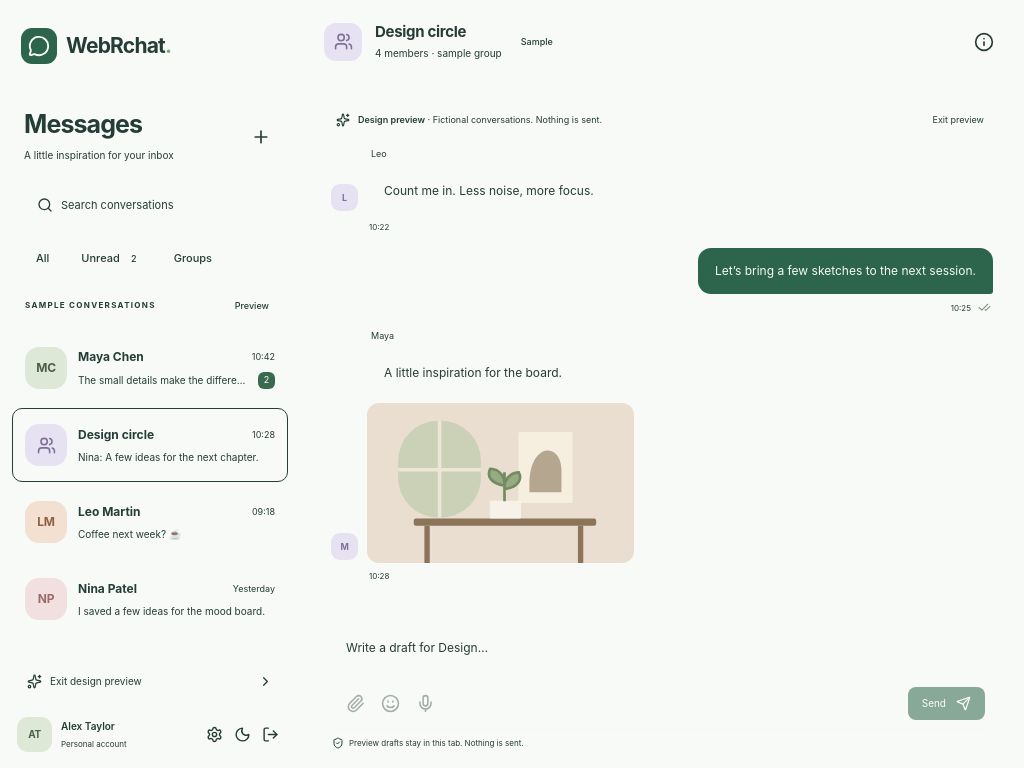
chat workspace › displays group details and closes the image modal
(page scrolled)
Click the button named "Conversation details": (984, 42) [968,26,1000,58]
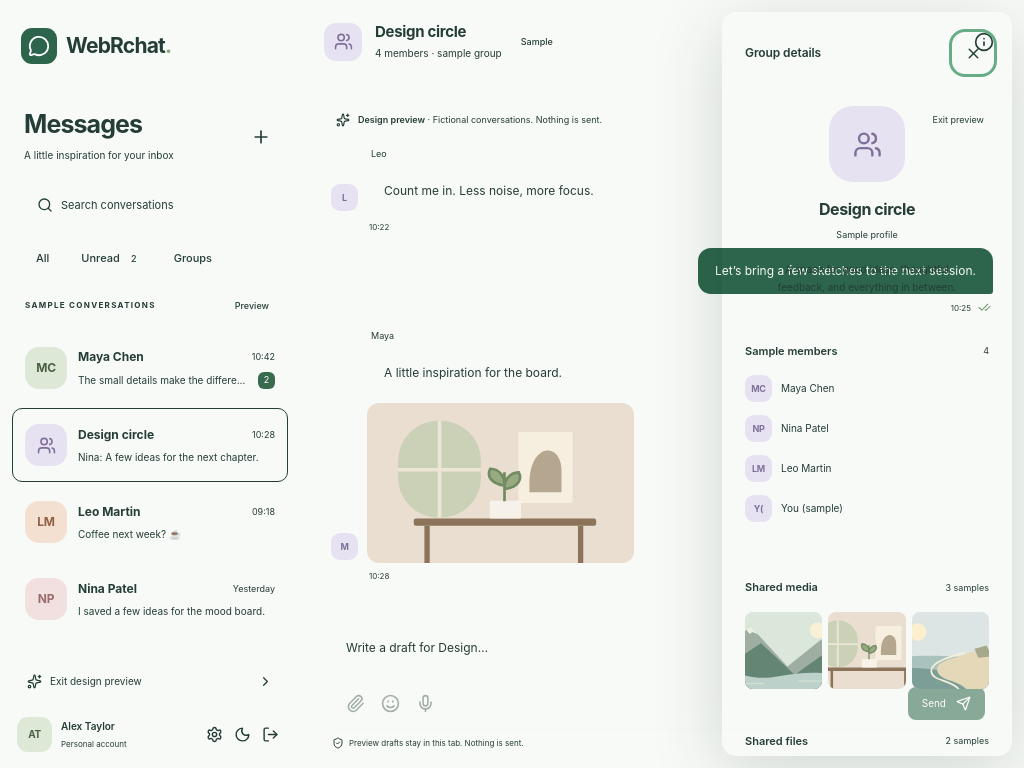
Now the heading "Group details" is shown, box [745,44,821,62]
Now the text "Nina Patel" below "Sample members" is shown, box [781,422,829,434]
Click the button named "View sample: Mountain lake illustration": (784, 650) [745,612,822,689]
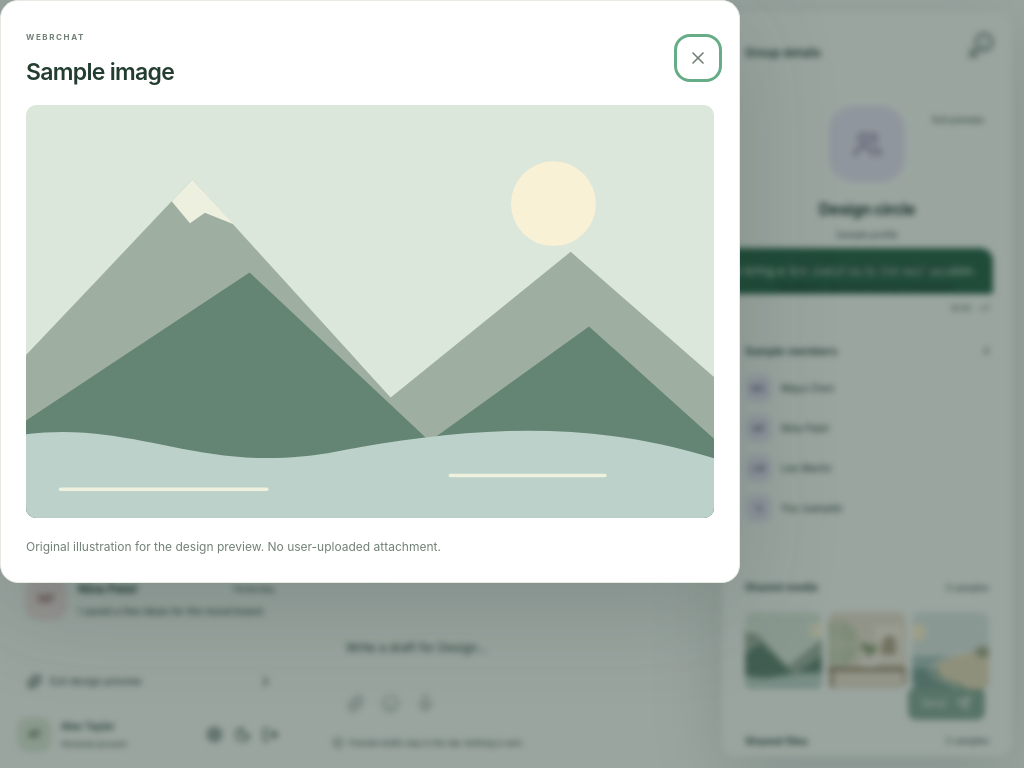
Now the dialog "Sample image" is shown, box [0,0,740,583]
Click the button named "Close dialog": (698, 58) [682,42,714,74]
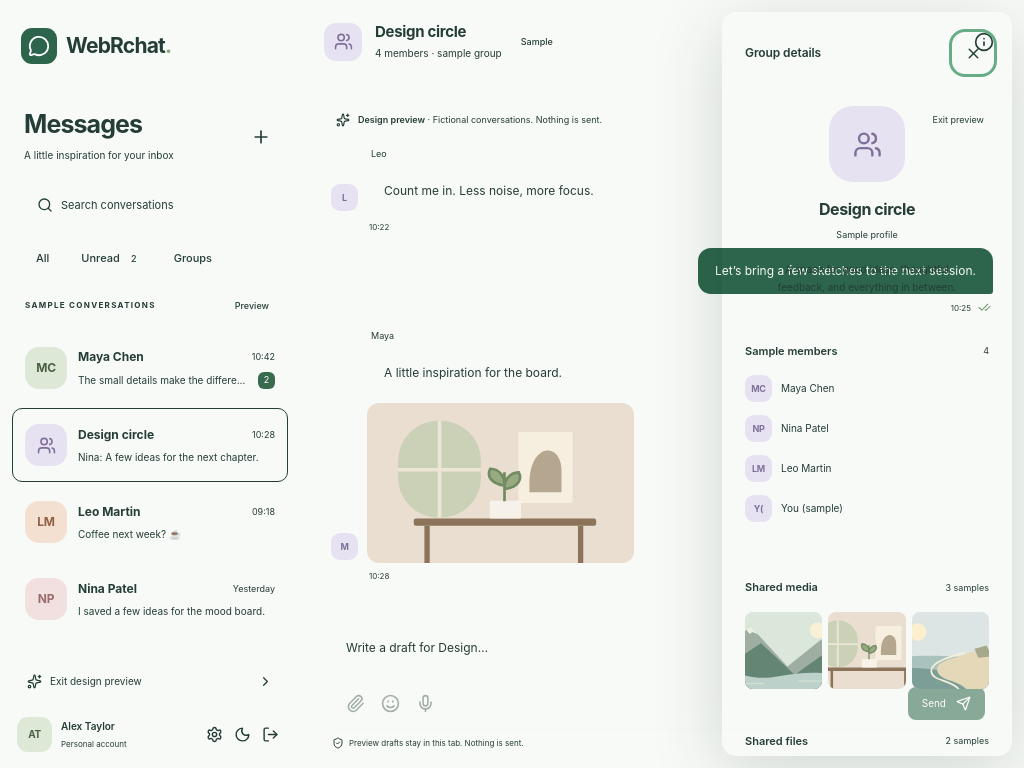
Now the dialog is gone
